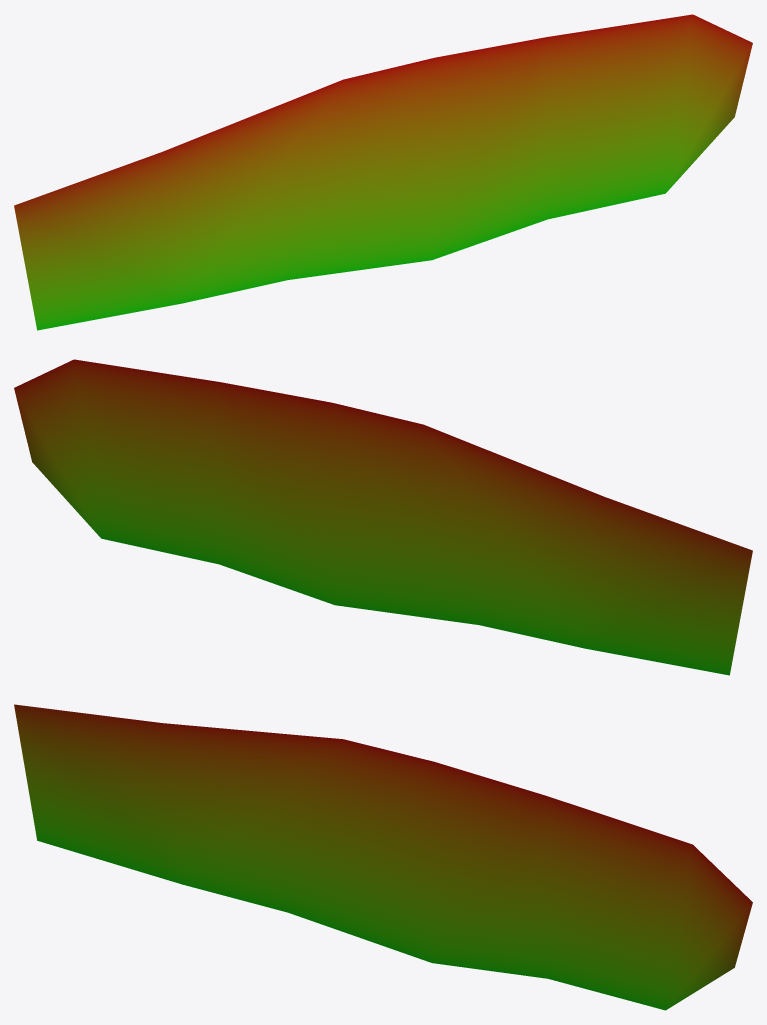
File: Var7_LOD6.fbx
3 renders of one model, top to bottom at view 1: azimuth 30°, elevation 25°; view 2: azimuth 150°, elevation 25°; view 3: azimuth 330°, elevation 25°, orthographic.
Visible parts, largest first — view 1: _2apv_Var7_LOD6; view 2: _2apv_Var7_LOD6; view 3: _2apv_Var7_LOD6.
Part boxes in pixels (<box>): _2apv_Var7_LOD6: <box>14,14,752,330</box>; _2apv_Var7_LOD6: <box>14,359,752,675</box>; _2apv_Var7_LOD6: <box>14,704,752,1010</box>.
Bounding box in the file's own units: 81.13 × 21.22 × 2.53e-06.
